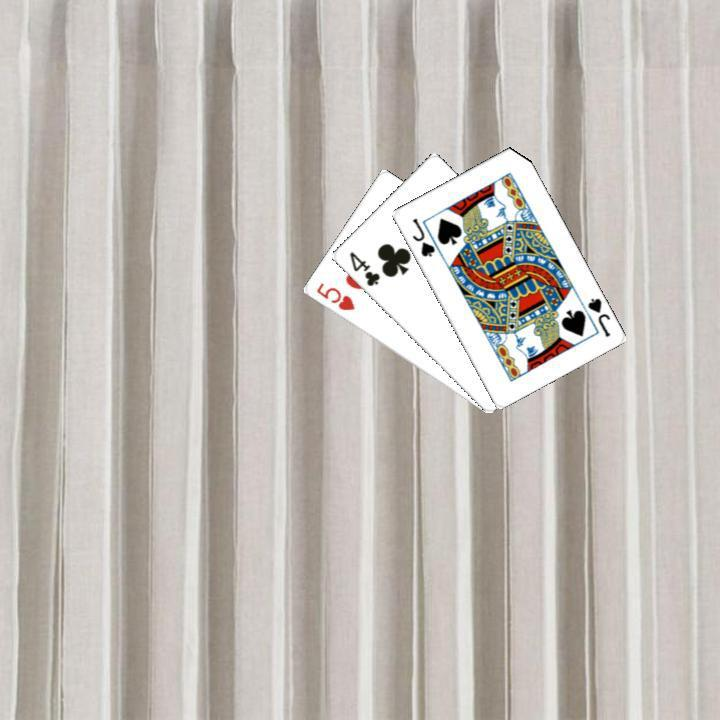4: (345, 247, 382, 289)
5: (311, 278, 356, 313)
J: (407, 213, 437, 259), (583, 293, 612, 339)
